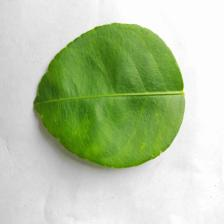greening: (29, 20, 193, 175)
